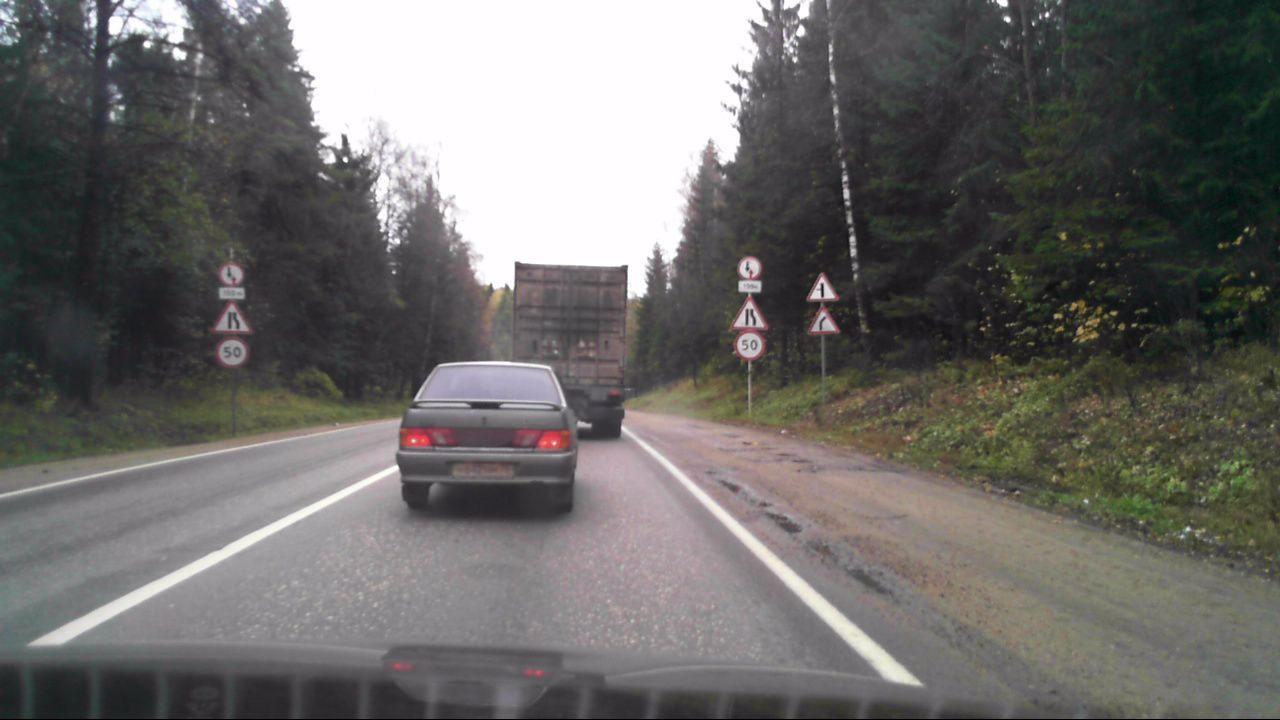1_11_1: (808, 306, 842, 336)
1_20_2: (208, 300, 255, 333), (727, 296, 770, 332)
2_3_3: (806, 271, 840, 303)
2_6: (736, 255, 762, 279), (219, 263, 246, 285)
3_24: (215, 336, 249, 368), (735, 332, 766, 360)
8_1_1: (738, 280, 762, 295), (217, 287, 246, 299)
